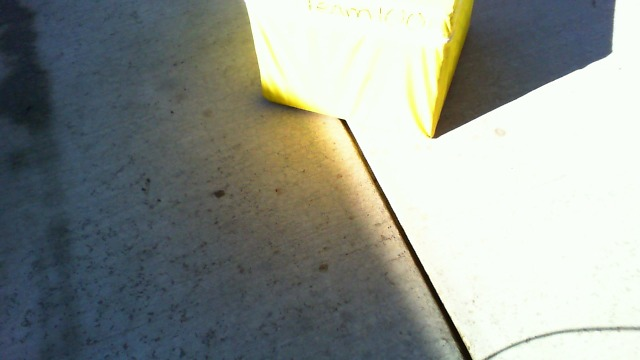cube: (235, 1, 478, 138)
